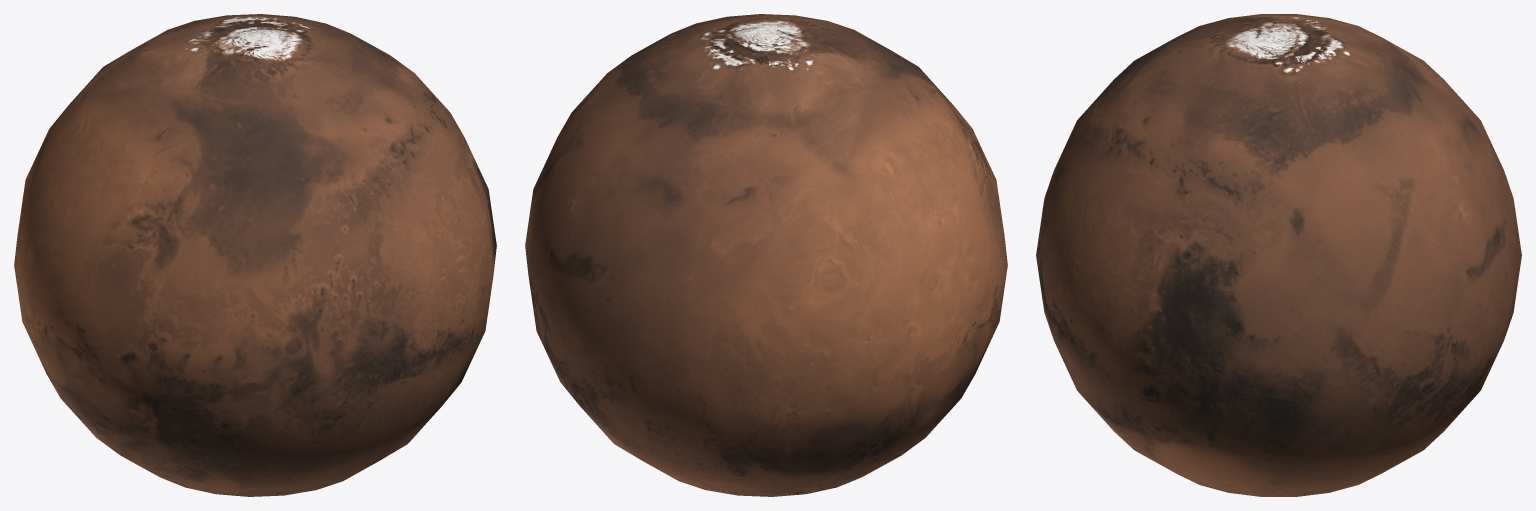
The model's file is Mars.obj.
The picture shows the model from 3 angles, left to right: view 1: azimuth 30°, elevation 25°; view 2: azimuth 150°, elevation 25°; view 3: azimuth 270°, elevation 25°; orthographic projection.
Visible parts, largest first — view 1: Mesh; view 2: Mesh; view 3: Mesh.
Part boxes in pixels (bbox=[...]): Mesh: bbox=[14, 14, 496, 496]; Mesh: bbox=[525, 14, 1007, 496]; Mesh: bbox=[1036, 14, 1521, 496].
Bounding box in the file's own units: 1.98 × 2 × 2.
